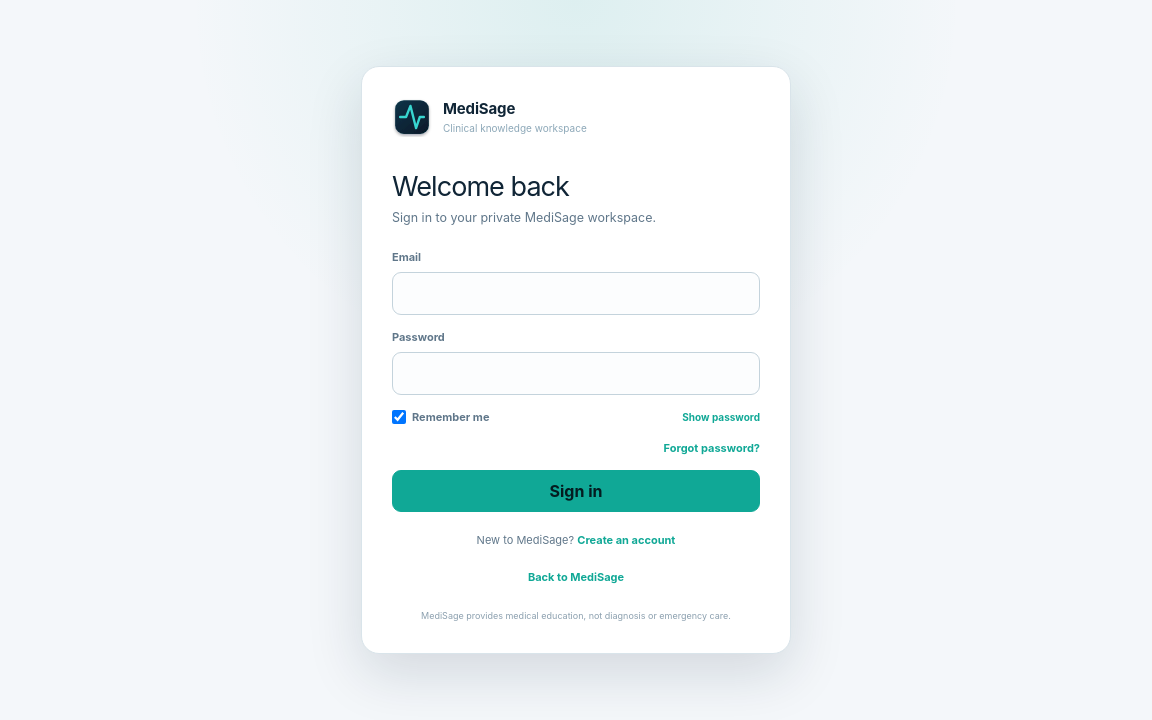
it: shows login only on explicit /login and Back to MediSage returns to chat
Check: the heading "Welcome back" is shown, box [392,170,569,203]
Click the link "Back to MediSage": (576, 577) [528,570,624,584]
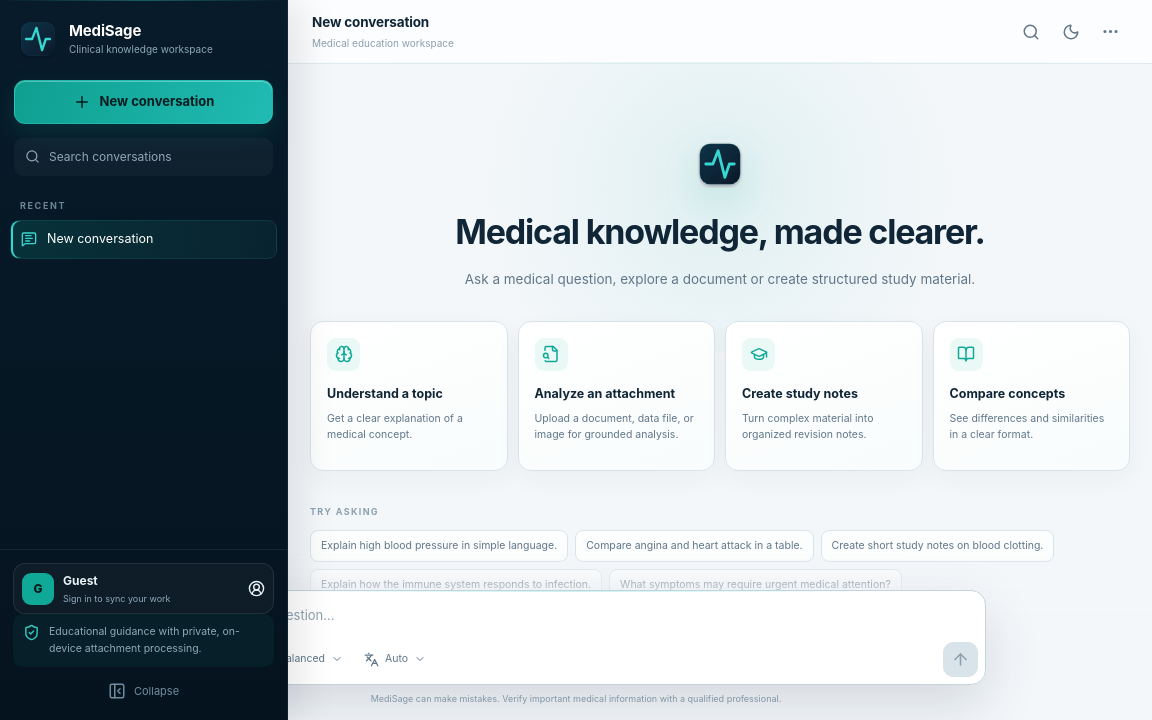
Check: the text box named "Chat message" is shown, box [167,590,985,638]
